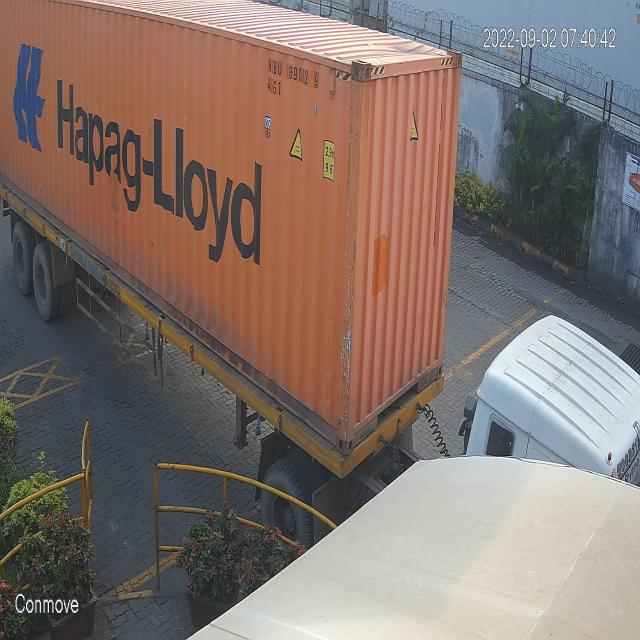dent: (389, 30, 443, 72)
